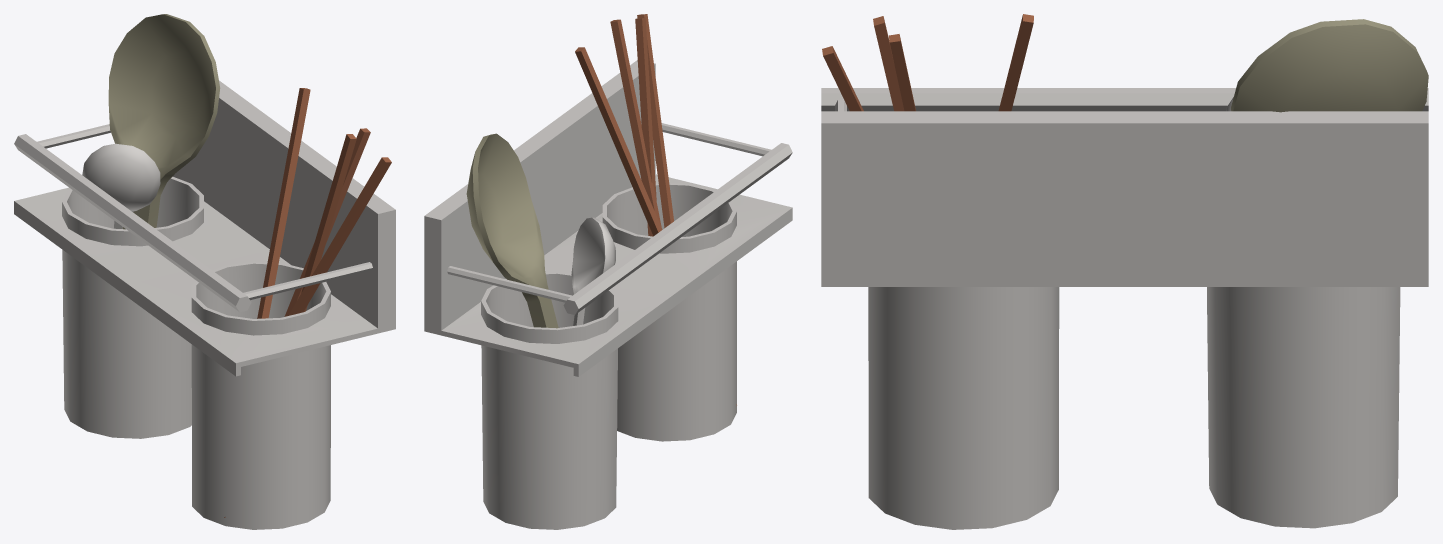
The model's file is SYWJ108.FBX.
3 views of the same model, side by side, from view 1: azimuth 30°, elevation 25°; view 2: azimuth 150°, elevation 25°; view 3: azimuth 270°, elevation 25° (orthographic). The views are drawn at different scales.
Visible parts, largest first — view 1: SYWJ108; view 2: SYWJ108; view 3: SYWJ108.
Boxes of the visible parts, x1,y1,x2,y2 form: SYWJ108: (14, 14, 395, 529); SYWJ108: (424, 14, 792, 529); SYWJ108: (821, 14, 1428, 529).
Bounding box in the file's own units: 317 × 719 × 762.
